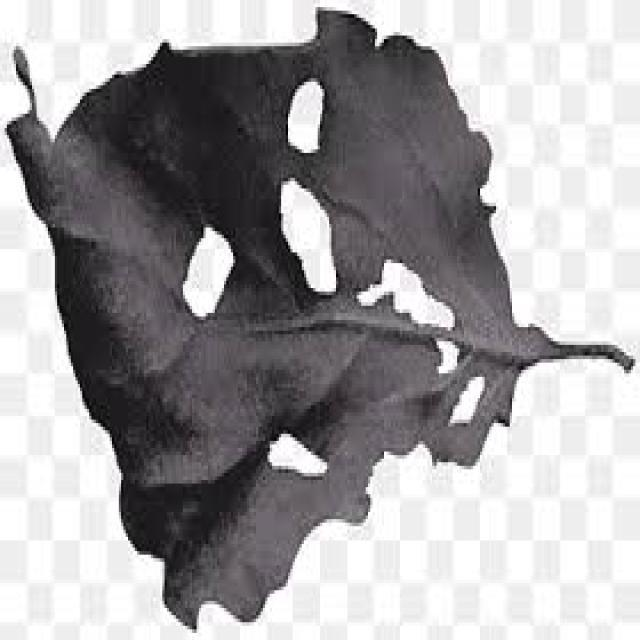leaf: (4, 6, 634, 630)
